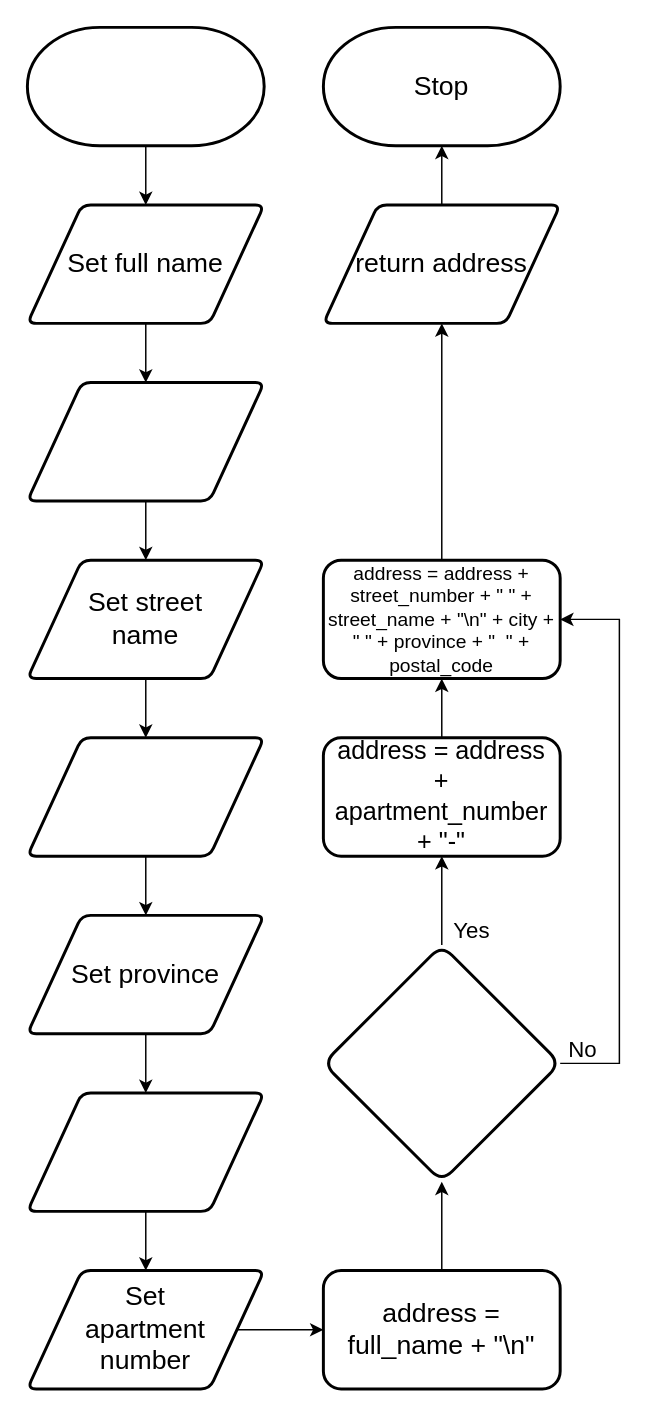
Some shapes in this 657 by 1415 pixel diagram are drawn without their labels. Here are the shapes that lost their labels. From the top down, the centre of each, then its label:
(145,86): Start
(145,441): Set street number
(145,796): Set city
(441,1063): if apartment_option == "y":
(145,1151): Set postal code
